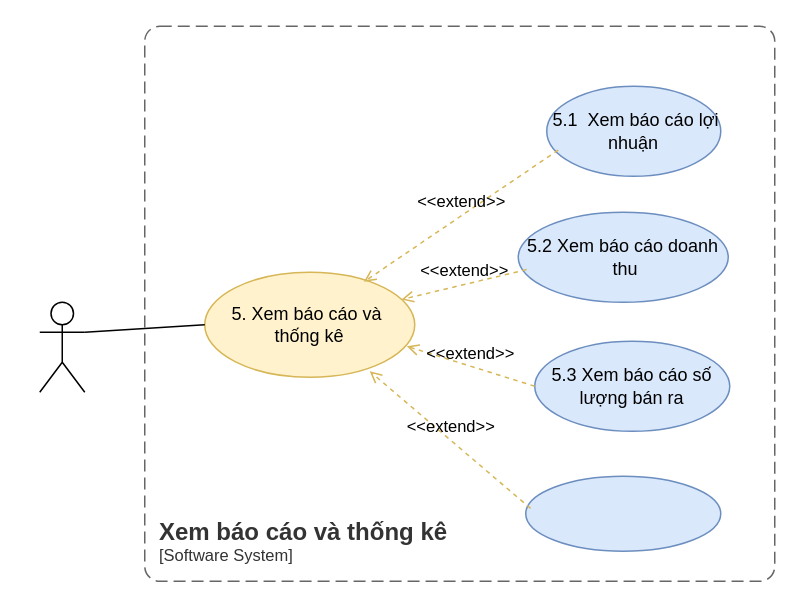
This 801x608 diagram has some shape labels left out. The shapes that lost their labels are listed below. From the top down, each one's centre as x and y in pixels, then its label:
point 61,346: Chủ tiệm
point 622,513: 5.4 Xem báo cáo tồn kho
